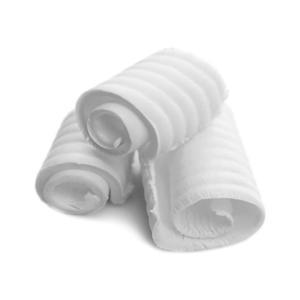butter: (43, 40, 272, 267)
